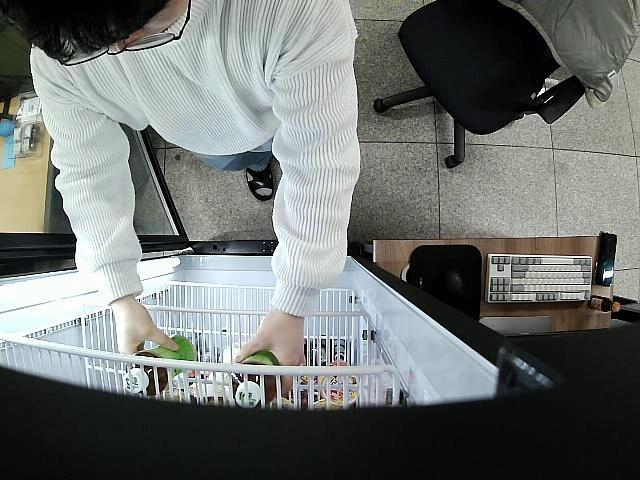19_17cha: (124, 334, 198, 395), (232, 352, 282, 408)
